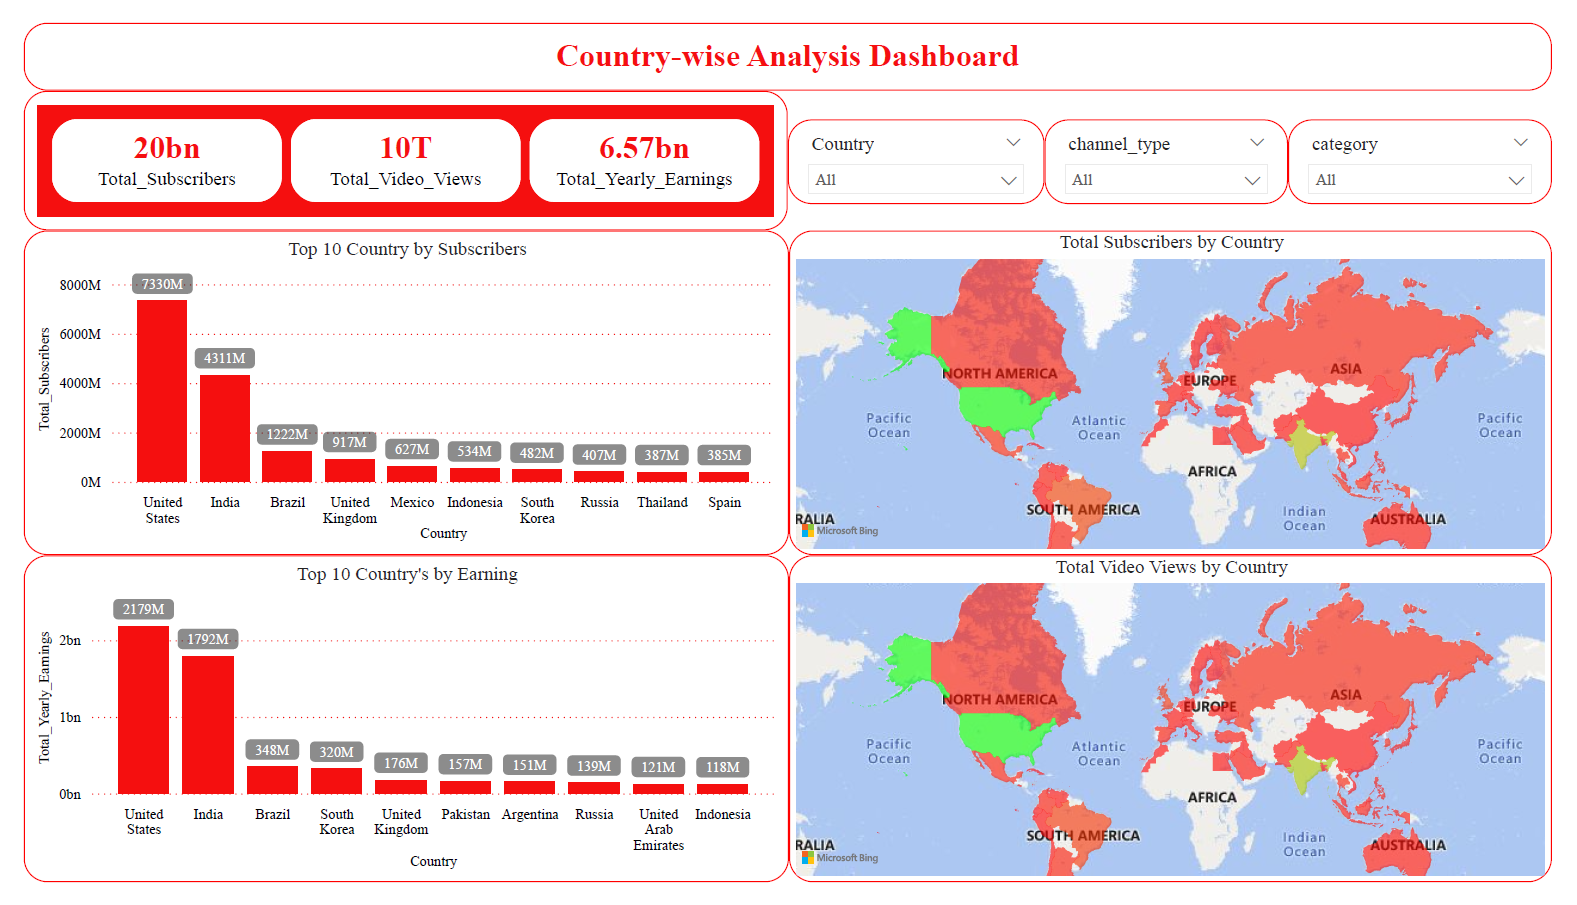

The page's visual inventory and layout, read from the dashboard file:
{"tool":"powerbi","page":{"name":"Country_Dashboard","canvas":[1280,720],"ordinal":1},"visuals":[{"type":"textbox","box":[0,0,1280.3,57.5],"z":0},{"type":"cardVisual","fields":{"Data":["Measure.Total_Subscribers","Measure.Total_Video_Views","Measure.Total_Yearly_Earnings"]},"box":[0,57.5,639.5,116.2],"z":1000},{"type":"columnChart","title":"Top 10  Country by Subscribers","fields":{"Y":["Measure.Total_Subscribers"],"Category":["YouTube_Data.Country"]},"box":[0,173.6,640.8,272.7],"z":2000},{"type":"slicer","fields":{"Values":["YouTube_Data.Country"]},"box":[639.5,80.7,215.2,70.9],"z":3000},{"type":"slicer","fields":{"Values":["YouTube_Data.category"]},"box":[1059,80.7,221.3,70.9],"z":4000},{"type":"slicer","fields":{"Values":["YouTube_Data.channel_type"]},"box":[854.8,80.7,204.2,70.9],"z":5000},{"type":"columnChart","title":"Top 10 Country''s by Earning","fields":{"Category":["YouTube_Data.Country"],"Y":["Measure.Total_Yearly_Earnings"]},"box":[0,446.3,640.8,273.9],"z":6000},{"type":"filledMap","title":"Total Subscribers by Country","fields":{"Category":["YouTube_Data.Country"]},"box":[640.8,173.6,639.5,272.7],"z":7000},{"type":"filledMap","title":"Total Video Views by Country","fields":{"Category":["YouTube_Data.Country"]},"box":[640.8,446.3,639.5,273.9],"z":8000}]}

Visuals, with their boxes in screenshot pixels (x1, y1, x2, y2), scaled from the page's 1280x720 canvas onto the 1577x905 screenshot:
textbox: pyautogui.locateOnScreen(0, 0, 1576, 72)
cardVisual - Measure.Total_Subscribers x Measure.Total_Video_Views: pyautogui.locateOnScreen(0, 72, 788, 218)
"Top 10  Country by Subscribers" columnChart: pyautogui.locateOnScreen(0, 218, 789, 561)
slicer - YouTube_Data.Country: pyautogui.locateOnScreen(788, 101, 1053, 191)
slicer - YouTube_Data.category: pyautogui.locateOnScreen(1305, 101, 1576, 191)
slicer - YouTube_Data.channel_type: pyautogui.locateOnScreen(1053, 101, 1305, 191)
"Top 10 Country''s by Earning" columnChart: pyautogui.locateOnScreen(0, 561, 789, 904)
"Total Subscribers by Country" filledMap: pyautogui.locateOnScreen(789, 218, 1576, 561)
"Total Video Views by Country" filledMap: pyautogui.locateOnScreen(789, 561, 1576, 904)
